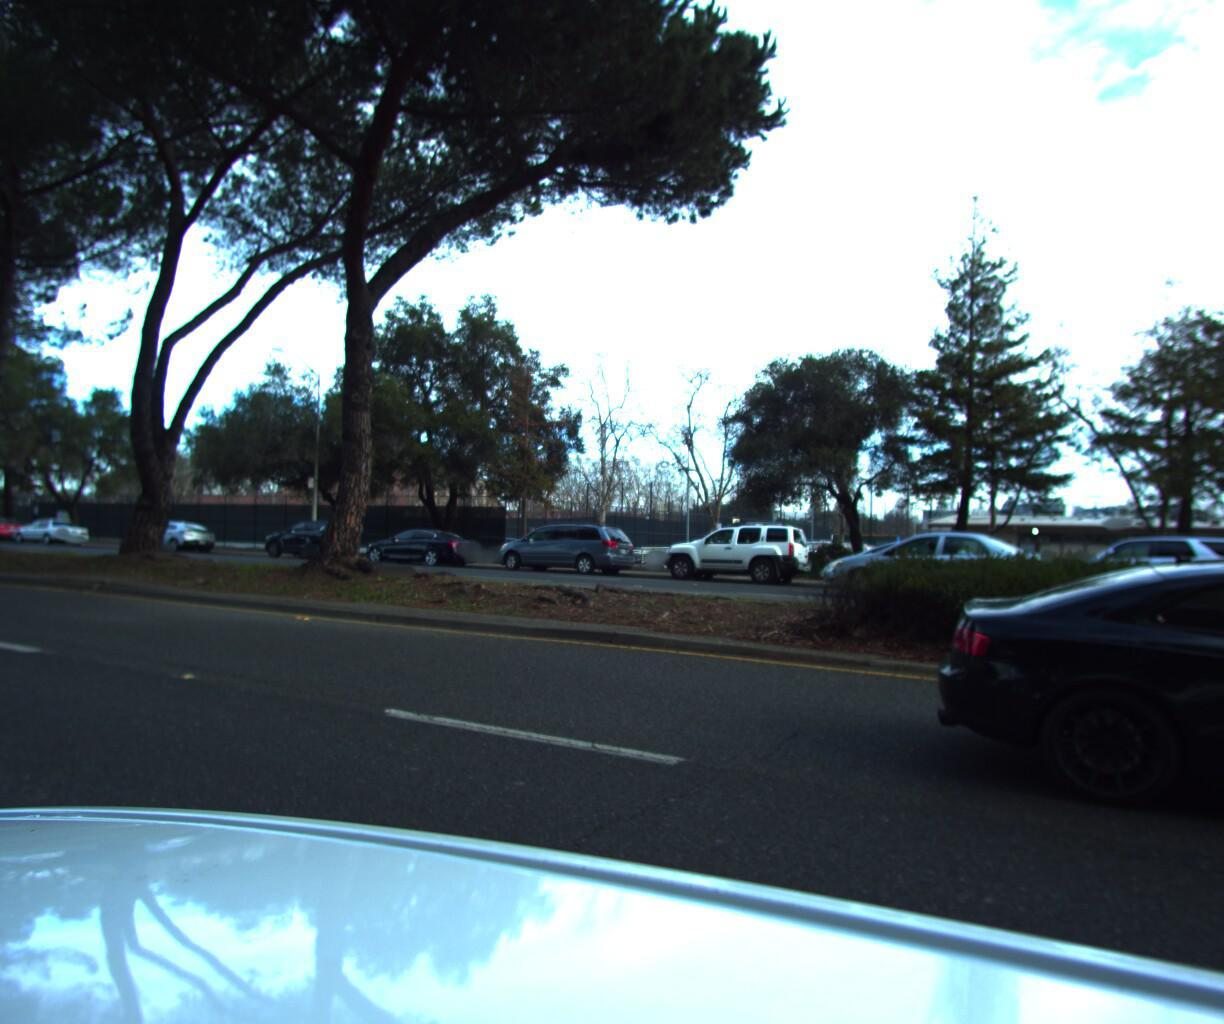car: (892, 539, 1224, 993), (823, 522, 1058, 604), (1021, 523, 1224, 617), (807, 531, 990, 600), (650, 513, 815, 586), (481, 514, 640, 578), (353, 521, 485, 565), (251, 513, 366, 559), (119, 514, 218, 551), (4, 513, 93, 544), (0, 510, 29, 540)
